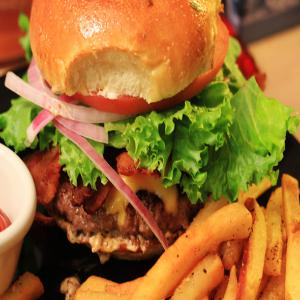cheeseburger_475cal: (11, 1, 257, 251)
fries_350cal: (53, 191, 300, 298)
